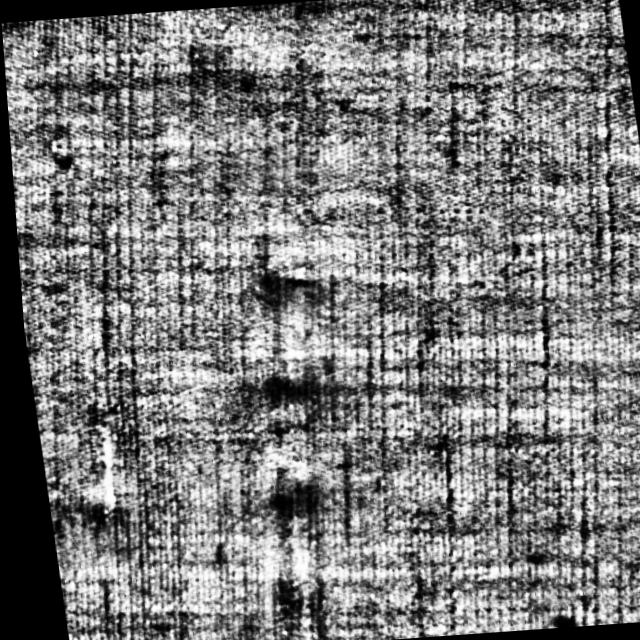Stitch: (208, 255, 378, 640), (79, 421, 124, 532)
